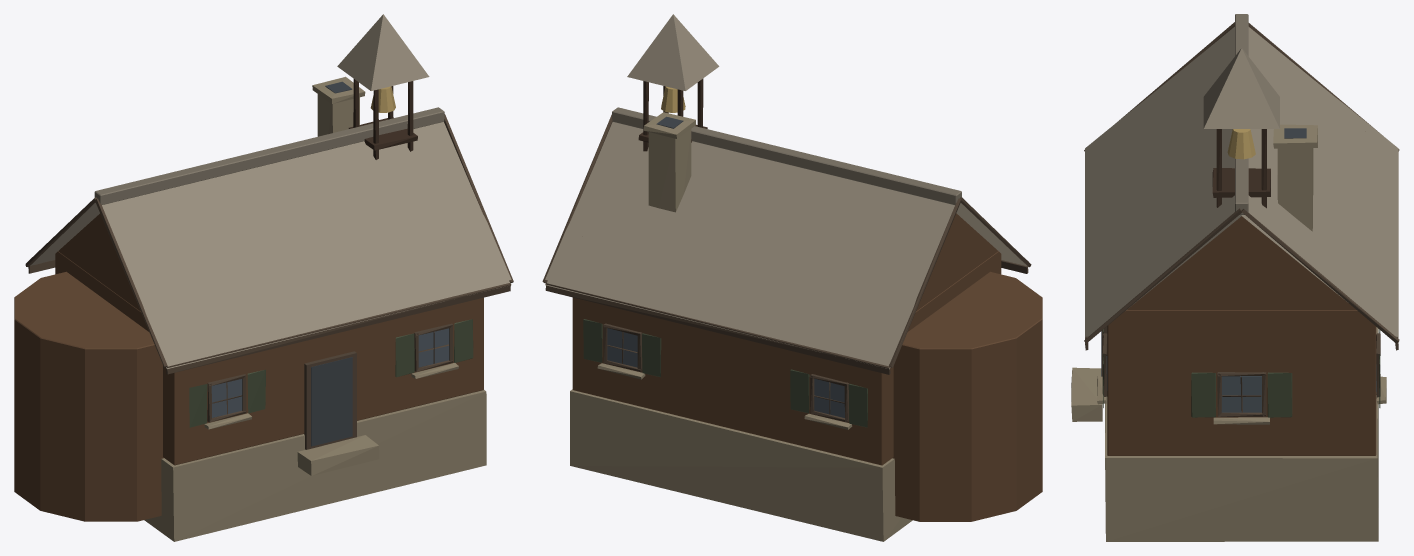
Rendered from chapel-mountain-lod1.glb.
3 renders of one model, left to right at view 1: azimuth 30°, elevation 25°; view 2: azimuth 150°, elevation 25°; view 3: azimuth 270°, elevation 25°, orthographic. The views are drawn at different scales.
Bounding box in the file's own units: 12.1 × 11.58 × 7.32.
